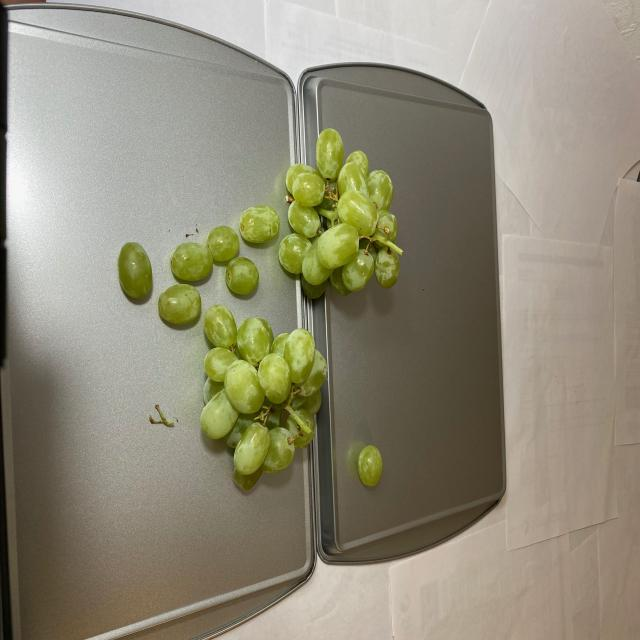Grapes: (113, 130, 403, 493)
